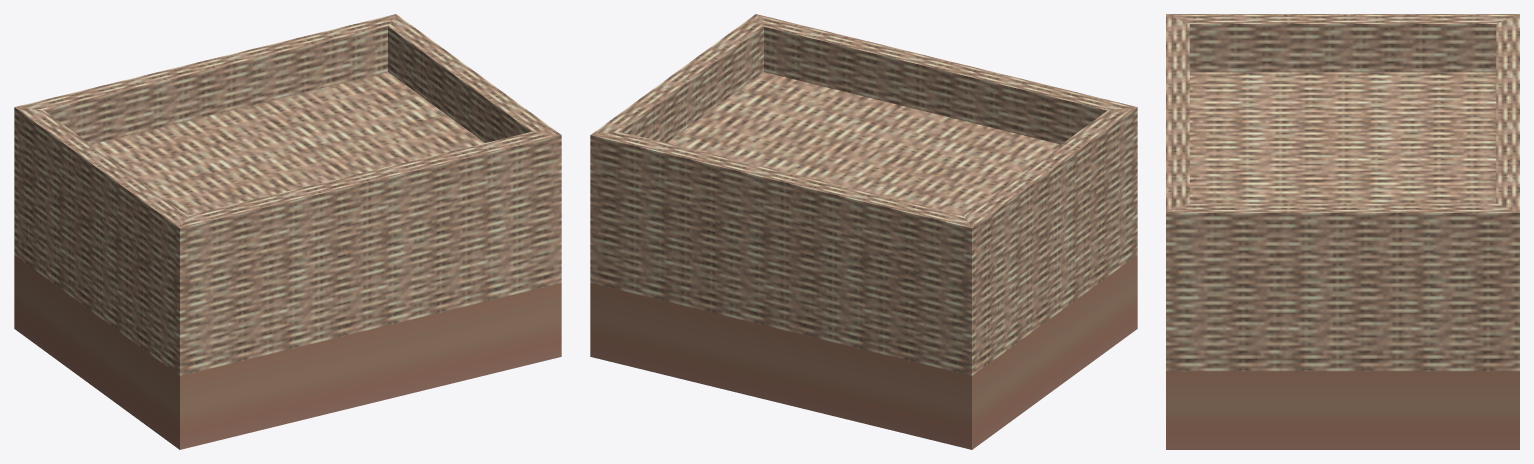
File: giftgoods111_03.fbx
3 renders of one model, left to right at view 1: azimuth 30°, elevation 25°; view 2: azimuth 150°, elevation 25°; view 3: azimuth 270°, elevation 25°, orthographic. The views are drawn at different scales.
Parts seen in each view (by area): view 1: giftgoods111_03; view 2: giftgoods111_03; view 3: giftgoods111_03.
Boxes of the visible parts, bbox=[...] form: giftgoods111_03: bbox=[14, 14, 561, 449]; giftgoods111_03: bbox=[590, 14, 1137, 449]; giftgoods111_03: bbox=[1166, 14, 1519, 449].
Size of the model in its own units: 1.13 by 0.6253 by 0.8462.
